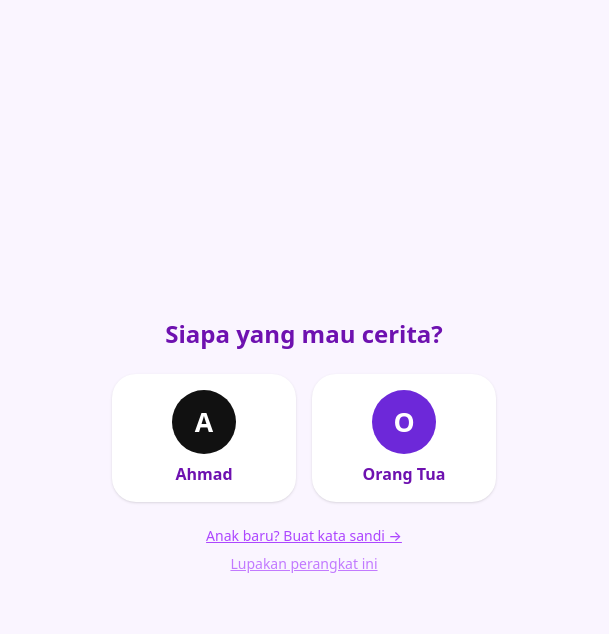
Test case: family login (lobby-first) › cached family: Orang Tua tile asks only for the password
The width and height of the screenshot is (609, 634).
Click the text "Orang Tua" at (404, 474), box [363,462,445,486]
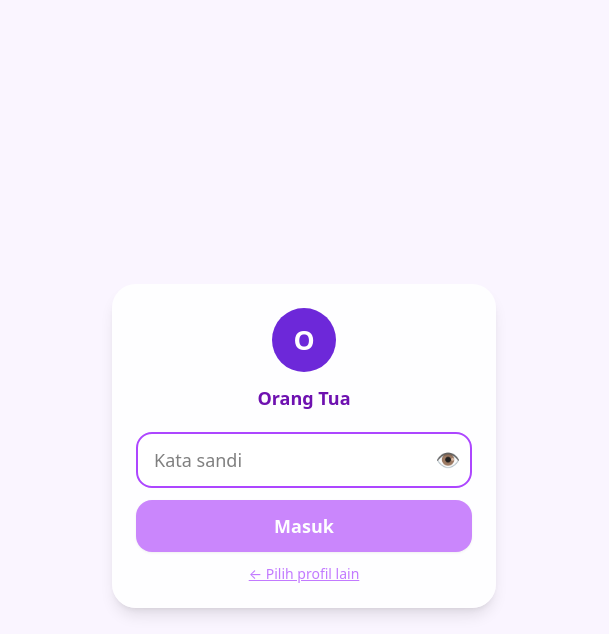
Type "rahasia" into the password field with placeholder "Kata sandi" at (304, 460), box [136,432,472,488]
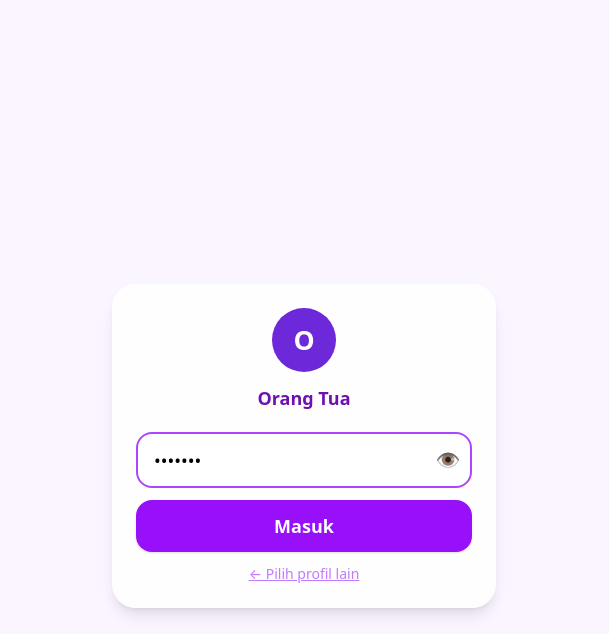
Click the button "Masuk" at (304, 526), box [136,500,472,552]
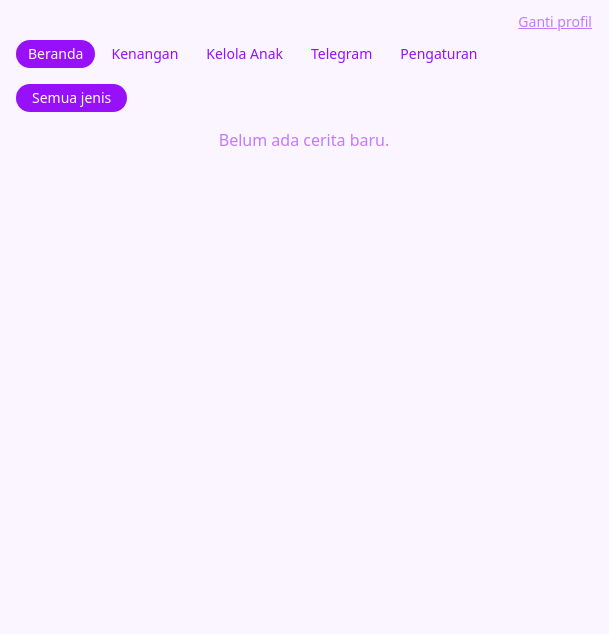
expect the link "Kelola Anak" is shown: met, box [206,44,283,63]
